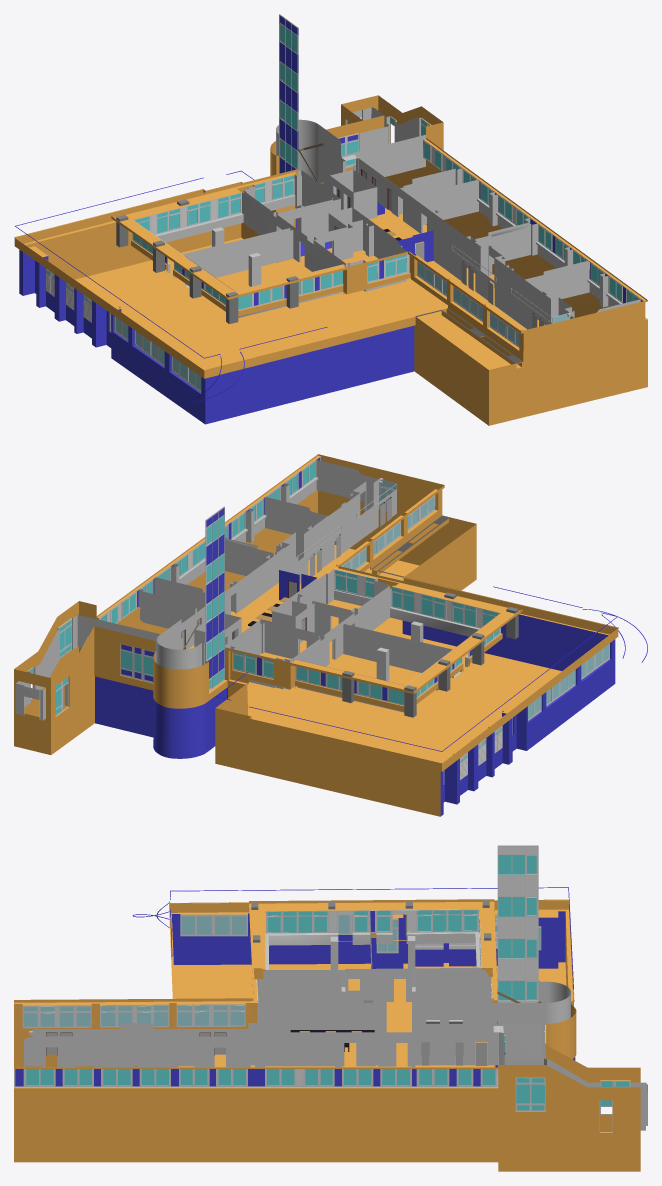
3 renders of one model, top to bottom at view 1: azimuth 30°, elevation 25°; view 2: azimuth 150°, elevation 25°; view 3: azimuth 270°, elevation 25°, orthographic. The views are drawn at different scales.
Visible parts, largest first — view 1: Podlaha001.1008, Podlaha001.898, Podlaha001.984, Podlaha001.1098, Podlaha001.936, Podlaha001.2565, Podlaha001.985, Podlaha001.2632, Podlaha001.2125, Podlaha001.1061, Podlaha001.987, Podlaha001.1222 (+14 smaller); view 2: Podlaha001.1008, Podlaha001.898, Podlaha001.936, Podlaha001.899, Podlaha001.984, Podlaha001.1222, Podlaha001.2565, Podlaha001.2632, Podlaha001.985, Podlaha001.1266, Podlaha001.2126, Podlaha001.1098 (+17 smaller); view 3: Podlaha001.1008, Podlaha001.936, Podlaha001.2632, Podlaha001.898, Podlaha001.2565, Podlaha001.987, Podlaha001.984, Podlaha001.1061, Podlaha001.2125, Podlaha001.2126, Podlaha001.2127, Podlaha001.1223 (+16 smaller).
Part boxes in pixels (x1=…): Podlaha001.1008: x1=14, y1=138, x2=647, y2=425; Podlaha001.898: x1=19, y1=250, x2=414, y2=424; Podlaha001.984: x1=341, y1=156, x2=571, y2=324; Podlaha001.1098: x1=185, y1=230, x2=341, y2=317; Podlaha001.936: x1=326, y1=95, x2=443, y2=232; Podlaha001.2565: x1=279, y1=14, x2=298, y2=173; Podlaha001.985: x1=412, y1=230, x2=551, y2=329; Podlaha001.2632: x1=423, y1=140, x2=643, y2=303; Podlaha001.2125: x1=415, y1=180, x2=529, y2=242; Podlaha001.1061: x1=313, y1=220, x2=406, y2=291; Podlaha001.987: x1=277, y1=170, x2=397, y2=261; Podlaha001.1222: x1=155, y1=192, x2=290, y2=278; Podlaha001.1008: x1=96, y1=454, x2=618, y2=816; Podlaha001.898: x1=402, y1=614, x2=615, y2=816; Podlaha001.936: x1=14, y1=601, x2=155, y2=754; Podlaha001.899: x1=95, y1=676, x2=227, y2=758; Podlaha001.984: x1=181, y1=478, x2=383, y2=649; Podlaha001.1222: x1=296, y1=624, x2=450, y2=712; Podlaha001.2565: x1=205, y1=506, x2=224, y2=690; Podlaha001.2632: x1=99, y1=456, x2=320, y2=623; Podlaha001.985: x1=279, y1=483, x2=397, y2=600; Podlaha001.1266: x1=139, y1=578, x2=205, y2=628; Podlaha001.2126: x1=225, y1=497, x2=327, y2=558; Podlaha001.1098: x1=344, y1=588, x2=479, y2=678; Podlaha001.1008: x1=14, y1=899, x2=576, y2=1162; Podlaha001.936: x1=498, y1=1024, x2=640, y2=1171; Podlaha001.2632: x1=14, y1=1067, x2=498, y2=1086; Podlaha001.898: x1=171, y1=911, x2=565, y2=968; Podlaha001.2565: x1=497, y1=845, x2=538, y2=1002; Podlaha001.987: x1=287, y1=969, x2=497, y2=1032; Podlaha001.984: x1=29, y1=1024, x2=498, y2=1065; Podlaha001.1061: x1=256, y1=970, x2=352, y2=1022; Podlaha001.2125: x1=255, y1=1036, x2=375, y2=1067; Podlaha001.2126: x1=137, y1=1036, x2=250, y2=1067; Podlaha001.2127: x1=24, y1=1037, x2=134, y2=1067; Podlaha001.1223: x1=413, y1=969, x2=492, y2=1002.
Size of the model in its own units: 4071 by 2161 by 4935.
